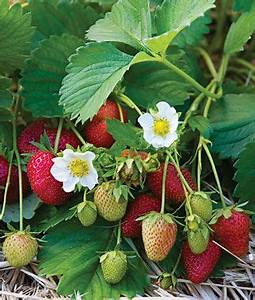Fresa: (25, 146, 83, 209), (144, 155, 200, 208), (209, 205, 254, 263), (179, 233, 223, 289), (121, 190, 167, 241)
